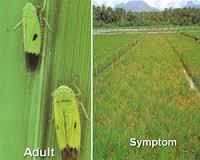pest: (52, 85, 82, 160), (21, 2, 43, 72)
